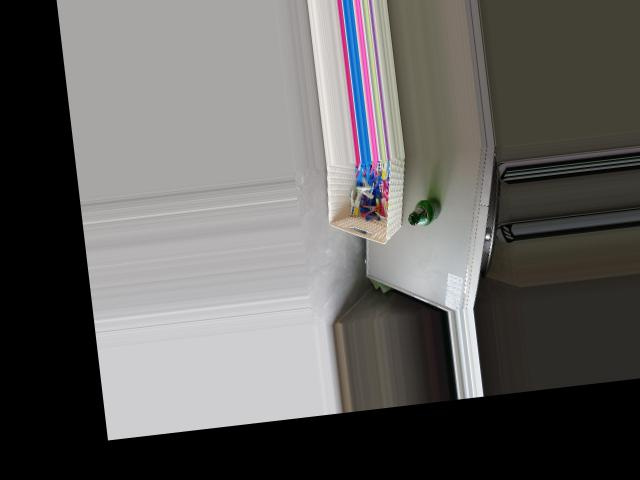beer: (407, 197, 443, 225)
